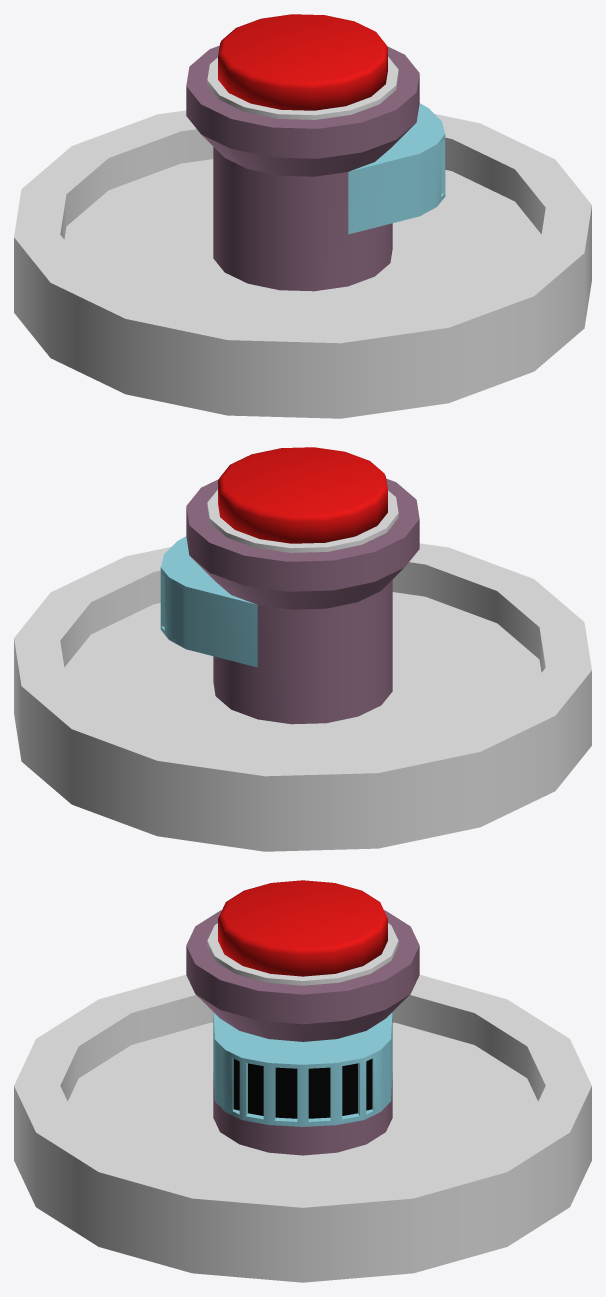
The model's file is Sprinkler.fbx.
The picture shows the model from 3 angles, top to bottom: view 1: azimuth 30°, elevation 25°; view 2: azimuth 150°, elevation 25°; view 3: azimuth 270°, elevation 25°; orthographic projection.
Visible parts, largest first — view 1: Sprinkler, Button; view 2: Sprinkler, Button; view 3: Sprinkler, Button.
Boxes of the visible parts, box(x1,y1,x2,y2) form: Sprinkler: box(14, 45, 591, 418); Button: box(218, 14, 387, 110); Sprinkler: box(14, 478, 591, 851); Button: box(218, 447, 387, 543); Sprinkler: box(14, 910, 591, 1282); Button: box(218, 880, 387, 976).
Size of the model in its own units: 280 by 132 by 280.
